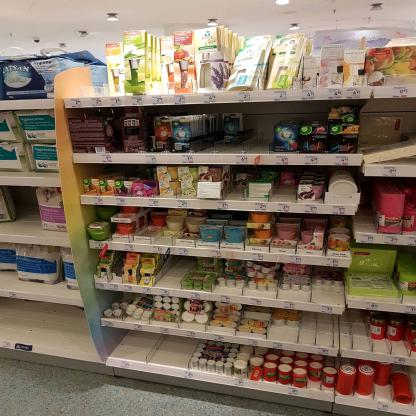Void: (7, 304, 85, 354), (119, 332, 186, 367), (300, 318, 363, 348), (368, 103, 414, 144), (12, 187, 40, 233), (80, 162, 156, 177), (252, 106, 274, 152), (202, 142, 242, 154), (165, 258, 181, 286), (268, 326, 291, 343), (277, 187, 296, 202), (228, 184, 242, 202)
